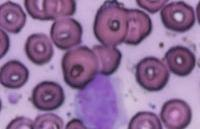L: (74, 71, 124, 128)
